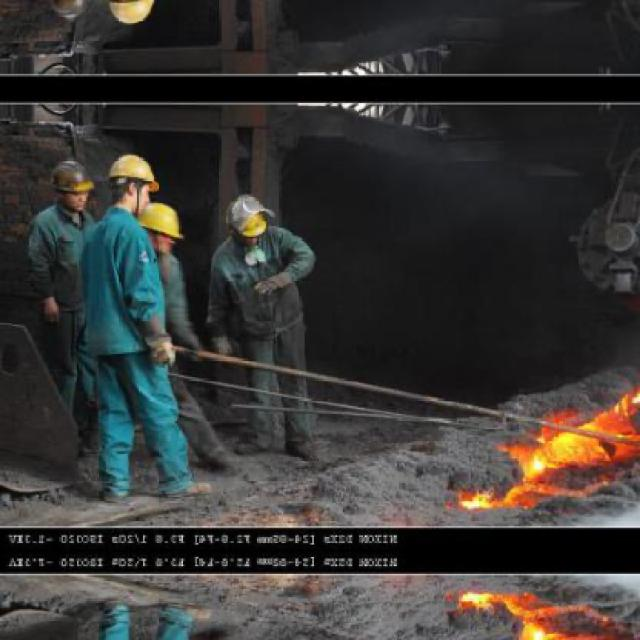con casco: (104, 147, 201, 262)
